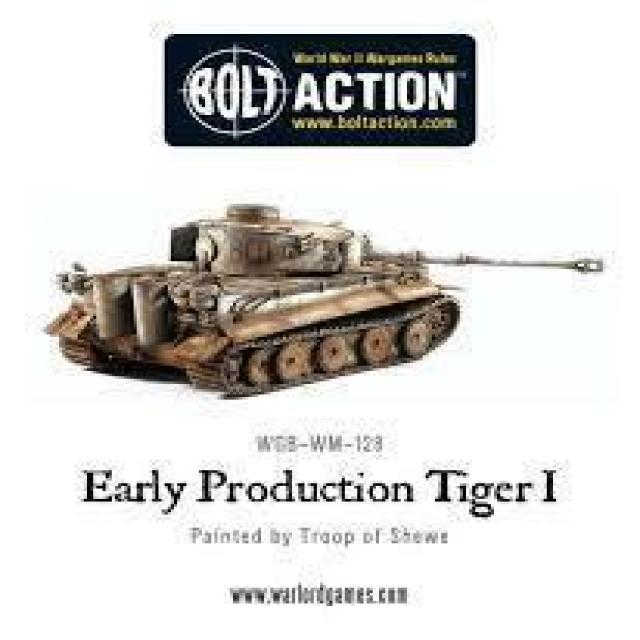Tanks: (38, 184, 624, 406)
